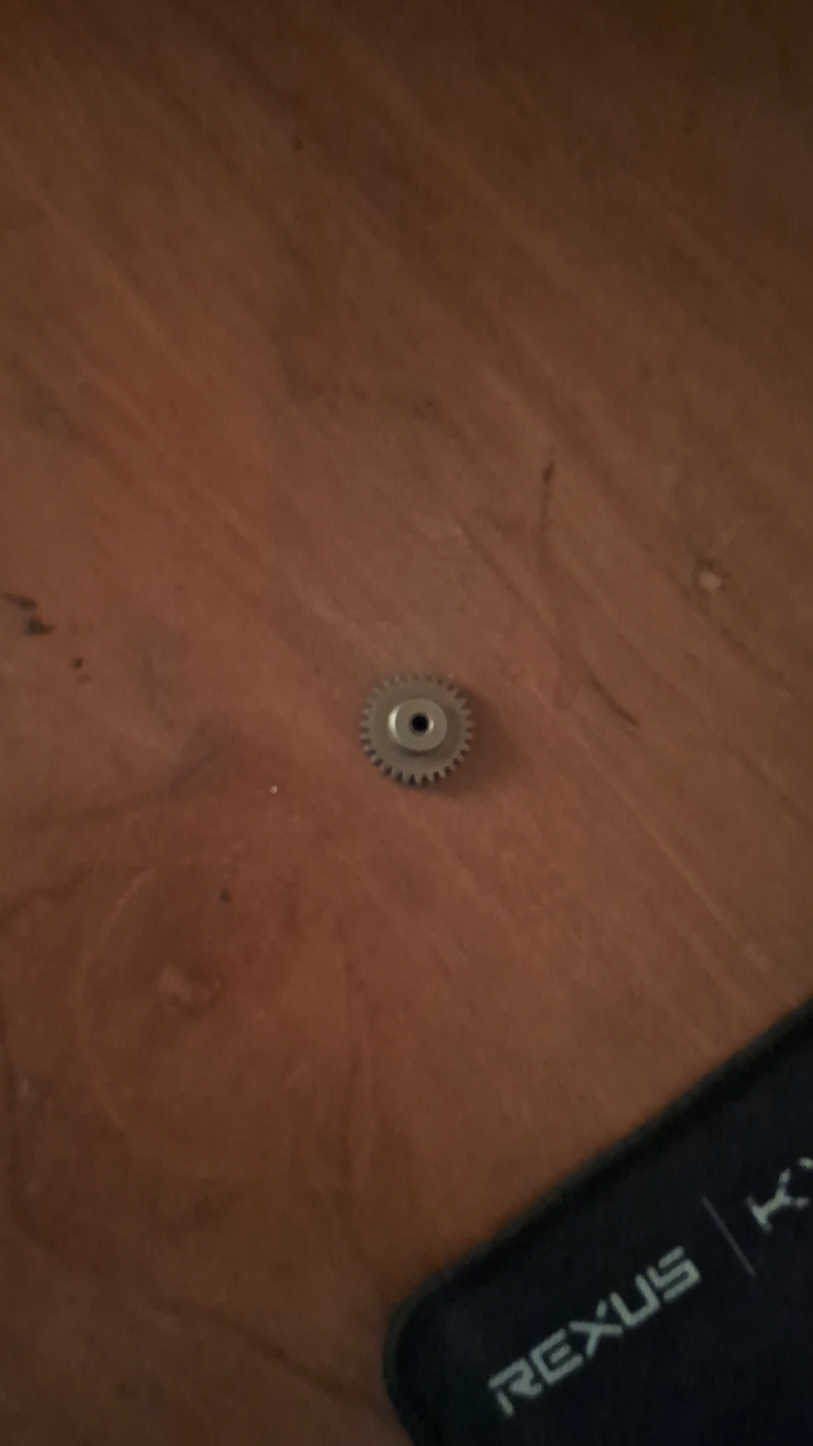spur gear: (361, 676, 472, 785)
